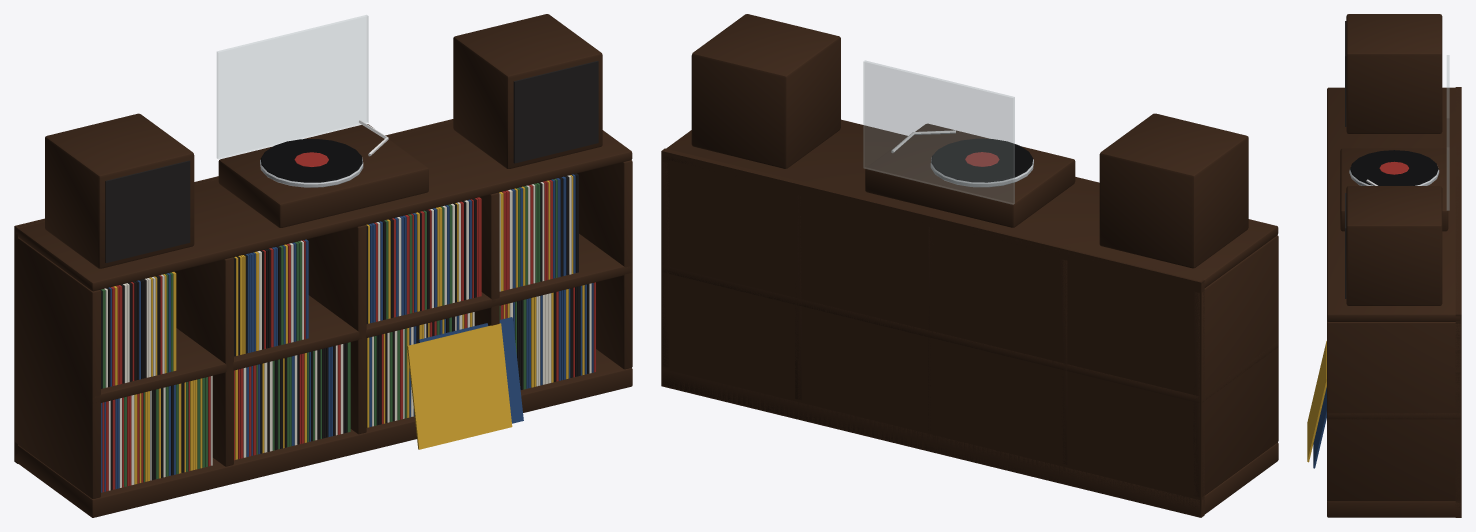
The model's file is mae_record_shelf.glb.
The picture shows the model from 3 angles, left to right: view 1: azimuth 30°, elevation 25°; view 2: azimuth 150°, elevation 25°; view 3: azimuth 270°, elevation 25°; orthographic projection. The views are drawn at different scales.
Parts seen in each view (by area): view 1: mae_record_shelf; view 2: mae_record_shelf; view 3: mae_record_shelf.
Part boxes in pixels (box(x1,y1,x2,y2)): mae_record_shelf: box(14, 14, 632, 517); mae_record_shelf: box(661, 14, 1278, 517); mae_record_shelf: box(1307, 14, 1461, 517).
Size of the model in its own units: 1.8 by 1.17 by 0.5159.
